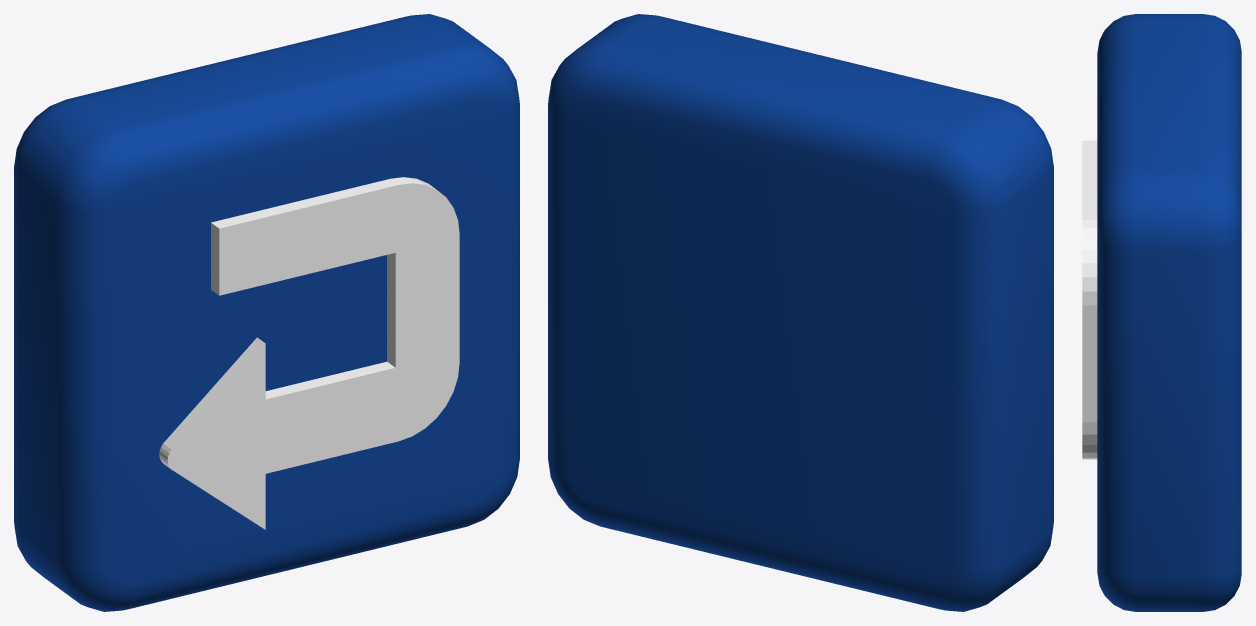
The model's file is right_arrow_curving_left.glb.
3 views of the same model, side by side, from view 1: azimuth 30°, elevation 25°; view 2: azimuth 150°, elevation 25°; view 3: azimuth 270°, elevation 25° (orthographic). The views are drawn at different scales.
Visible parts, largest first — view 1: Cube.6333; view 2: Cube.6333; view 3: Cube.6333.
Part boxes in pixels (x1=…): Cube.6333: x1=14, y1=14, x2=519, y2=611; Cube.6333: x1=548, y1=14, x2=1053, y2=611; Cube.6333: x1=1082, y1=14, x2=1241, y2=611.
Bounding box in the file's own units: 2.2 × 2.2 × 0.73.
Materials: 1 (1 with a texture image).
